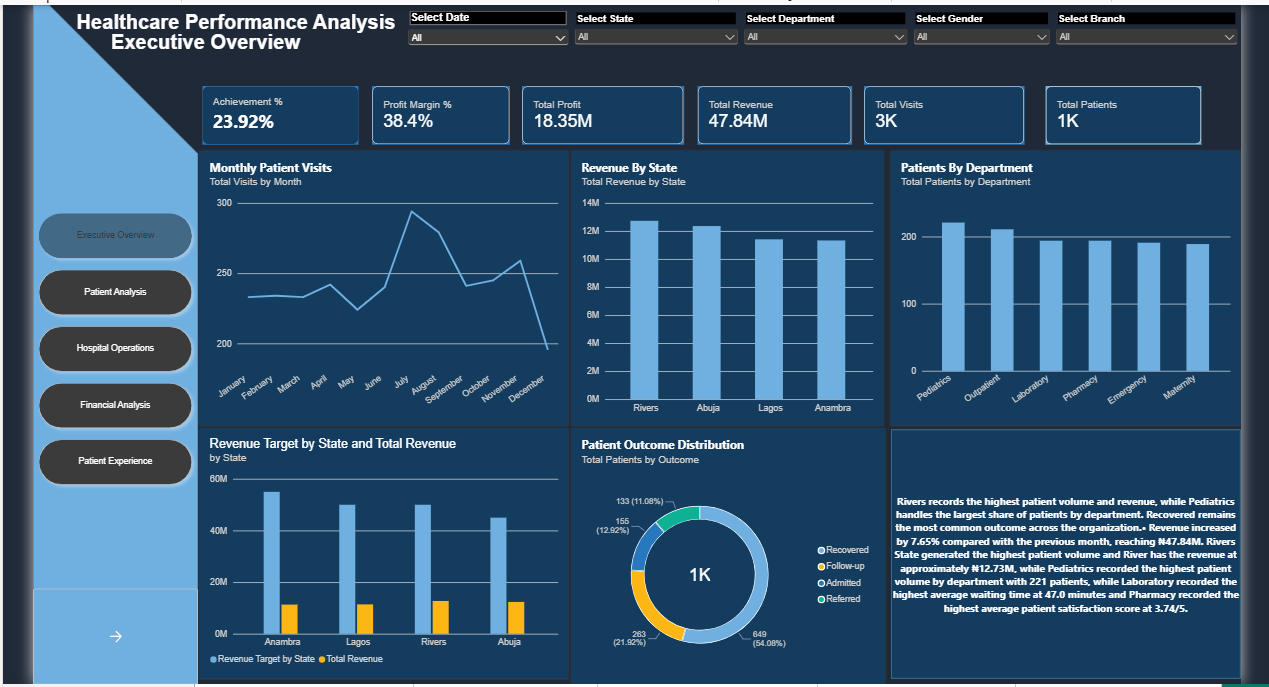

Layout of this report page (visuals, bound fields, positions):
{"tool":"powerbi","page":{"name":"Executive Overview","canvas":[1920,1080],"ordinal":0},"visuals":[{"type":"cardVisual","fields":{"Data":["Date_Table.Total Patients"]},"box":[1610.5,128.8,248.1,93.1],"z":0},{"type":"cardVisual","fields":{"Data":["Date_Table.Total Visits"]},"box":[1321.8,128.8,255.3,93.1],"z":1000},{"type":"cardVisual","fields":{"Data":["Date_Table.Total Revenue"]},"box":[1057,128.8,245.7,93.1],"z":2000},{"type":"cardVisual","fields":{"Data":["Date_Table.Total Profit"]},"box":[777.8,128.8,257.7,93.1],"z":3000},{"type":"cardVisual","fields":{"Data":["Date_Table.Profit Margin %"]},"box":[539.2,128.8,219.5,93.1],"z":4000},{"type":"cardVisual","title":"Achievement%","fields":{"Data":["Date_Table.Achievement %"]},"box":[269.6,128.8,248.1,93.1],"z":5000},{"type":"lineChart","title":"Monthly Patient Visits","fields":{"Category":["Date_Table.Month"],"Y":["Date_Table.Total Visits"]},"box":[264.8,231.4,586.9,436.6],"z":6000},{"type":"clusteredColumnChart","title":"Revenue By State","fields":{"Category":["Patient_Visits.State"],"Y":["Date_Table.Total Revenue"]},"box":[856.5,231.4,496.3,436.6],"z":7000},{"type":"clusteredColumnChart","title":"Patients By Department","fields":{"Category":["Patient_Visits.Department"],"Y":["Date_Table.Total Patients"]},"box":[1364.7,231.4,555.9,436.6],"z":8000},{"type":"donutChart","title":"Patient Outcome Distribution","fields":{"Category":["Patient_Visits.Outcome"],"Y":["Date_Table.Total Patients"]},"box":[856.5,672.8,498.7,408],"z":9000},{"type":"slicer","fields":{"Values":["Patient_Visits.State"]},"box":[856.5,11.9,269.6,85.9],"z":10000},{"type":"slicer","fields":{"Values":["Patient_Visits.Department"]},"box":[1126.2,11.9,269.6,52.5],"z":11000},{"type":"slicer","fields":{"Values":["Date_Table.Date"]},"box":[591.7,9.5,264.8,76.3],"z":12000},{"type":"textbox","box":[69.2,9.5,656.1,50.1],"z":13000},{"type":"textbox","box":[124.1,40.6,539.2,47.7],"z":14000},{"type":"shape","box":[1364.7,675.2,555.9,396.1],"z":15000},{"type":"clusteredColumnChart","fields":{"Category":["Patient_Visits.State"],"Y":["Date_Table.Revenue Target by State","Date_Table.Total Revenue"]},"box":[264.8,672.8,586.9,398.4],"z":16000},{"type":"slicer","fields":{"Values":["Patient_Visits.Gender"]},"box":[1395.8,11.9,226.7,76.3],"z":17000},{"type":"slicer","fields":{"Values":["Patient_Visits.Branch"]},"box":[1622.4,11.9,298.2,74],"z":18000},{"type":"shape","box":[0,0,262.5,1080.8],"z":19000},{"type":"pageNavigator","box":[0,322.1,262.5,453.3],"z":20000},{"type":"actionButton","box":[0,928.1,262.5,152.7],"z":21000}]}

Visuals, with their boxes on the page's 1920x1080 design canvas (x1, y1, x2, y2). These are canvas units, not pixel positions in the 1269x687 screenshot, which may show the page scaled, cropped or inside an application window:
cardVisual - Date_Table.Total Patients: Rect(1610, 129, 1859, 222)
cardVisual - Date_Table.Total Visits: Rect(1322, 129, 1577, 222)
cardVisual - Date_Table.Total Revenue: Rect(1057, 129, 1303, 222)
cardVisual - Date_Table.Total Profit: Rect(778, 129, 1036, 222)
cardVisual - Date_Table.Profit Margin %: Rect(539, 129, 759, 222)
"Achievement%" cardVisual: Rect(270, 129, 518, 222)
"Monthly Patient Visits" lineChart: Rect(265, 231, 852, 668)
"Revenue By State" clusteredColumnChart: Rect(856, 231, 1353, 668)
"Patients By Department" clusteredColumnChart: Rect(1365, 231, 1921, 668)
"Patient Outcome Distribution" donutChart: Rect(856, 673, 1355, 1081)
slicer - Patient_Visits.State: Rect(856, 12, 1126, 98)
slicer - Patient_Visits.Department: Rect(1126, 12, 1396, 64)
slicer - Date_Table.Date: Rect(592, 10, 856, 86)
textbox: Rect(69, 10, 725, 60)
textbox: Rect(124, 41, 663, 88)
shape: Rect(1365, 675, 1921, 1071)
clusteredColumnChart - Patient_Visits.State x Date_Table.Revenue Target by State: Rect(265, 673, 852, 1071)
slicer - Patient_Visits.Gender: Rect(1396, 12, 1622, 88)
slicer - Patient_Visits.Branch: Rect(1622, 12, 1921, 86)
shape: Rect(0, 0, 262, 1081)
pageNavigator: Rect(0, 322, 262, 775)
actionButton: Rect(0, 928, 262, 1081)
